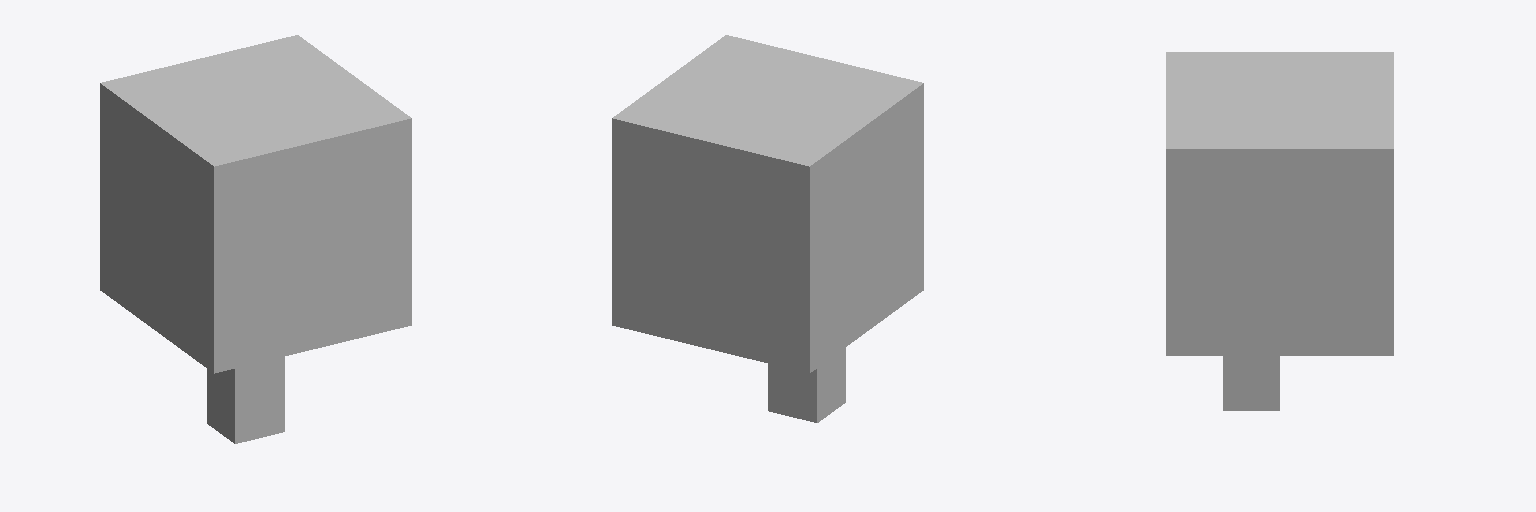
File: endaze.obj
3 renders of one model, left to right at view 1: azimuth 30°, elevation 25°; view 2: azimuth 150°, elevation 25°; view 3: azimuth 270°, elevation 25°, orthographic.
Parts seen in each view (by area): view 1: head, upperBodyParts0; view 2: head, upperBodyParts0; view 3: head, upperBodyParts0.
Part boxes in pixels (x1,y1,x2,y2): head: (100,35,411,373); upperBodyParts0: (207,357,284,443); head: (612,35,923,373); upperBodyParts0: (768,348,845,422); head: (1166,52,1393,355); upperBodyParts0: (1223,356,1279,410).
Size of the model in its own units: 0.5 by 0.75 by 0.5.